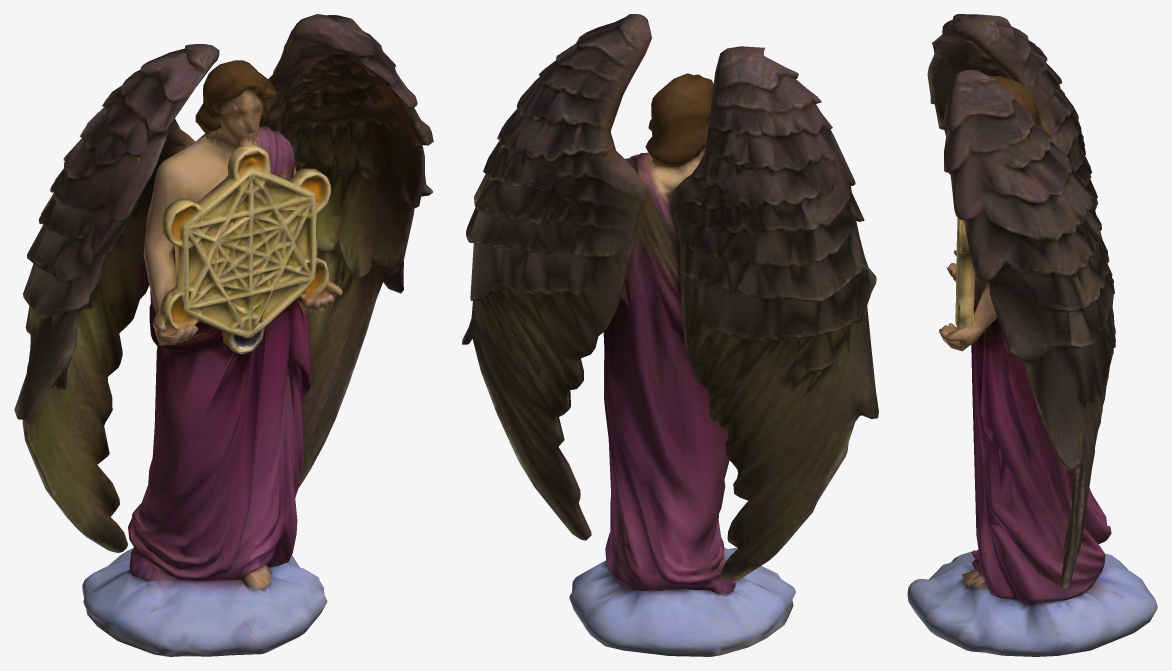
The model's file is enoch.lean.glb.
3 renders of one model, left to right at view 1: azimuth 30°, elevation 25°; view 2: azimuth 150°, elevation 25°; view 3: azimuth 270°, elevation 25°, orthographic. The views are drawn at different scales.
Visible parts, largest first — view 1: node_0; view 2: node_0; view 3: node_0.
Boxes of the visible parts, x1,y1,x2,y2 form: node_0: (14,14,433,656); node_0: (462,14,878,656); node_0: (907,14,1157,656).
Bounding box in the file's own units: 0.8232 × 1.12 × 0.4374.
Materials: 1 (1 with a texture image).
